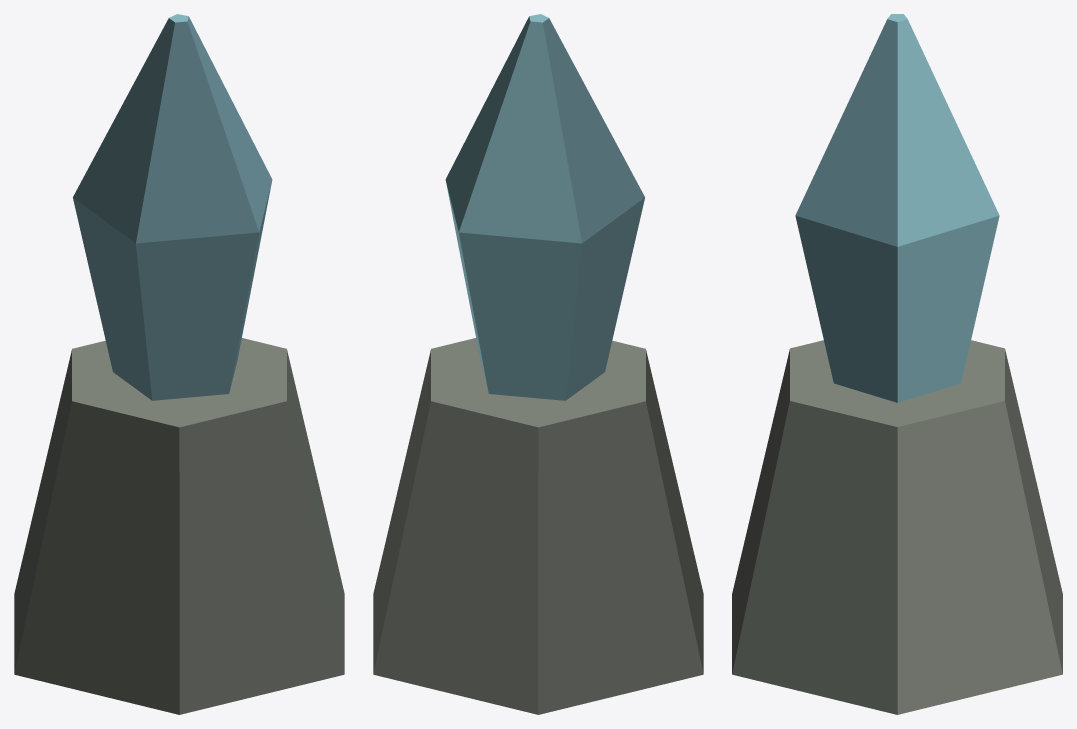
3 views of the same model, side by side, from view 1: azimuth 30°, elevation 25°; view 2: azimuth 150°, elevation 25°; view 3: azimuth 270°, elevation 25° (orthographic).
Parts seen in each view (by area): view 1: e552d55701f8fba66bfe809c3e2deb706896bad84b5590c007e71a6640d5; view 2: e552d55701f8fba66bfe809c3e2deb706896bad84b5590c007e71a6640d5; view 3: e552d55701f8fba66bfe809c3e2deb706896bad84b5590c007e71a6640d5.
Boxes of the visible parts, x1,y1,x2,y2 form: e552d55701f8fba66bfe809c3e2deb706896bad84b5590c007e71a6640d5: (14,14,344,714); e552d55701f8fba66bfe809c3e2deb706896bad84b5590c007e71a6640d5: (373,14,703,714); e552d55701f8fba66bfe809c3e2deb706896bad84b5590c007e71a6640d5: (732,14,1062,714).
Bounding box in the file's own units: 0.8 × 1.42 × 0.6928.
Materials: 2 (1 with a texture image).
